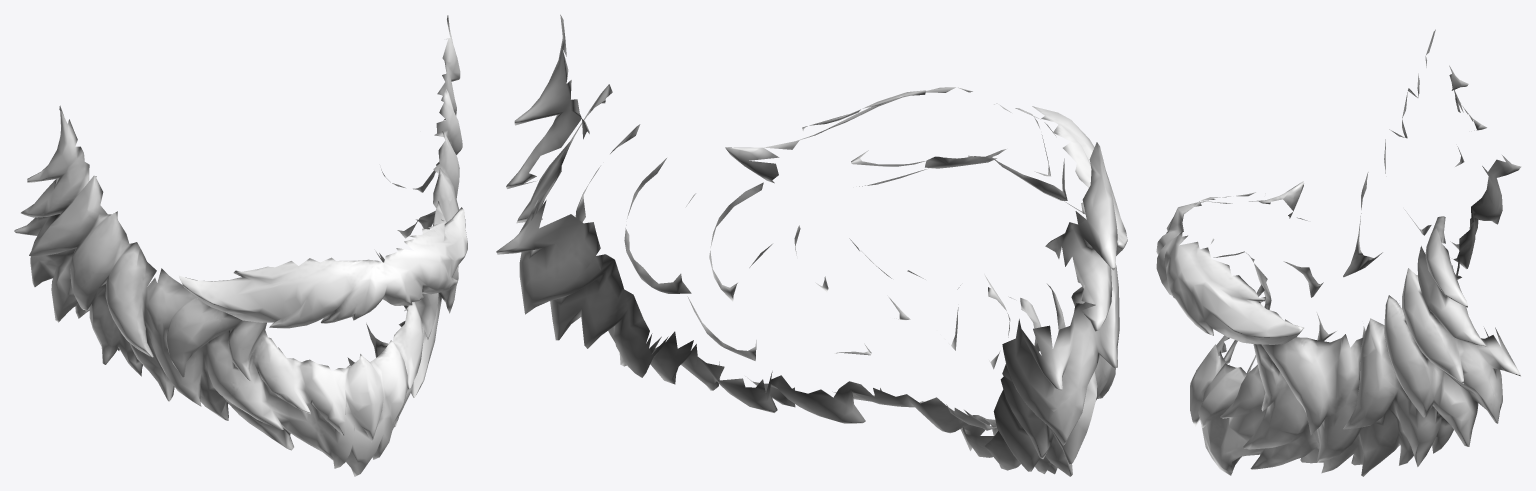
Rendered from beard-short.glb.
3 views of the same model, side by side, from view 1: azimuth 30°, elevation 25°; view 2: azimuth 150°, elevation 25°; view 3: azimuth 270°, elevation 25° (orthographic). The views are drawn at different scales.
Visible parts, largest first — view 1: tripo_node_33bc5e47-5744-43b6-b1e3-67c87a9540ca; view 2: tripo_node_33bc5e47-5744-43b6-b1e3-67c87a9540ca; view 3: tripo_node_33bc5e47-5744-43b6-b1e3-67c87a9540ca.
Boxes of the visible parts, left/top/right/bottom form: tripo_node_33bc5e47-5744-43b6-b1e3-67c87a9540ca: left=14, top=15, right=467, bottom=476; tripo_node_33bc5e47-5744-43b6-b1e3-67c87a9540ca: left=496, top=14, right=1127, bottom=476; tripo_node_33bc5e47-5744-43b6-b1e3-67c87a9540ca: left=1156, top=29, right=1521, bottom=476.
Size of the model in its own units: 0.1903 by 0.145 by 0.1322.
1 material, 1 textured.
